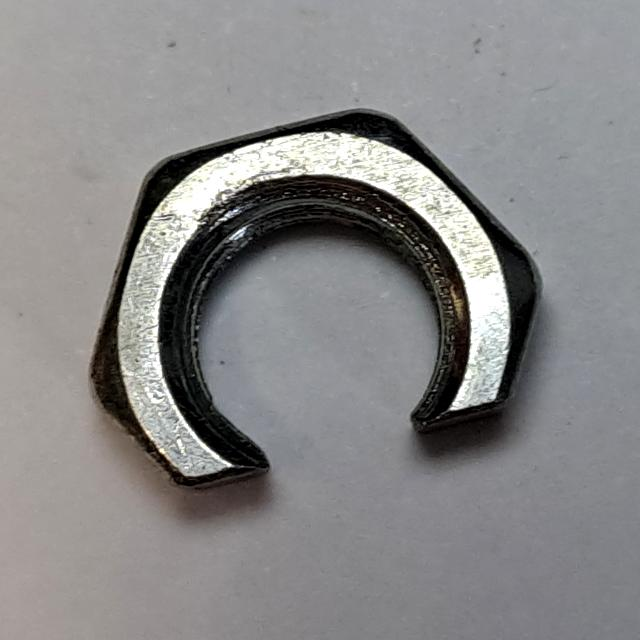Fracture: (66, 96, 556, 508)
